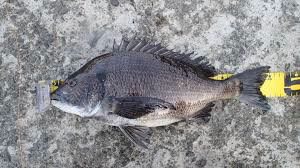kurodai: (46, 31, 272, 140)
